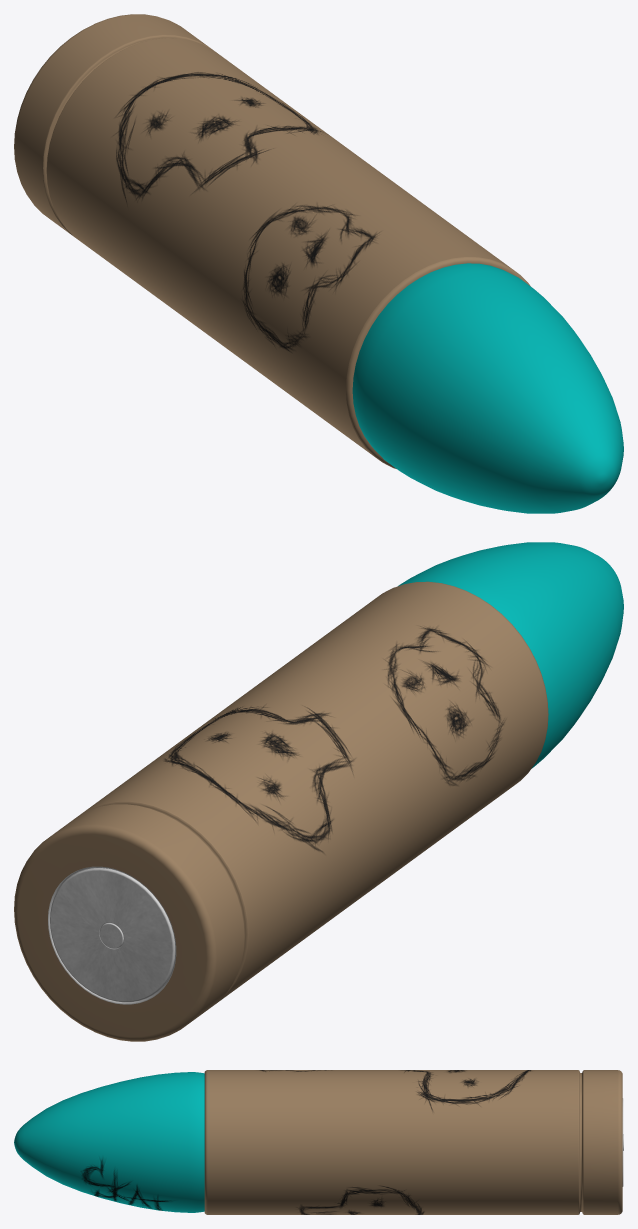
File: bullet.glb
3 renders of one model, top to bottom at view 1: azimuth 30°, elevation 25°; view 2: azimuth 150°, elevation 25°; view 3: azimuth 270°, elevation 25°, orthographic. The views are drawn at different scales.
Visible parts, largest first — view 1: Object_3, Object_2; view 2: Object_3, Object_2, Object_4; view 3: Object_3, Object_2.
Boxes of the visible parts, x1=… form: Object_3: x1=14, y1=14, x2=530, y2=468; Object_2: x1=352, y1=263, x2=623, y2=513; Object_3: x1=14, y1=581, x2=548, y2=1041; Object_2: x1=398, y1=542, x2=623, y2=768; Object_4: x1=48, y1=866, x2=176, y2=1004; Object_3: x1=204, y1=1070, x2=622, y2=1214; Object_2: x1=14, y1=1072, x2=204, y2=1212.
Size of the model in its own units: 16.21 by 16.18 by 68.3.
Materials: 3 (3 with a texture image).
